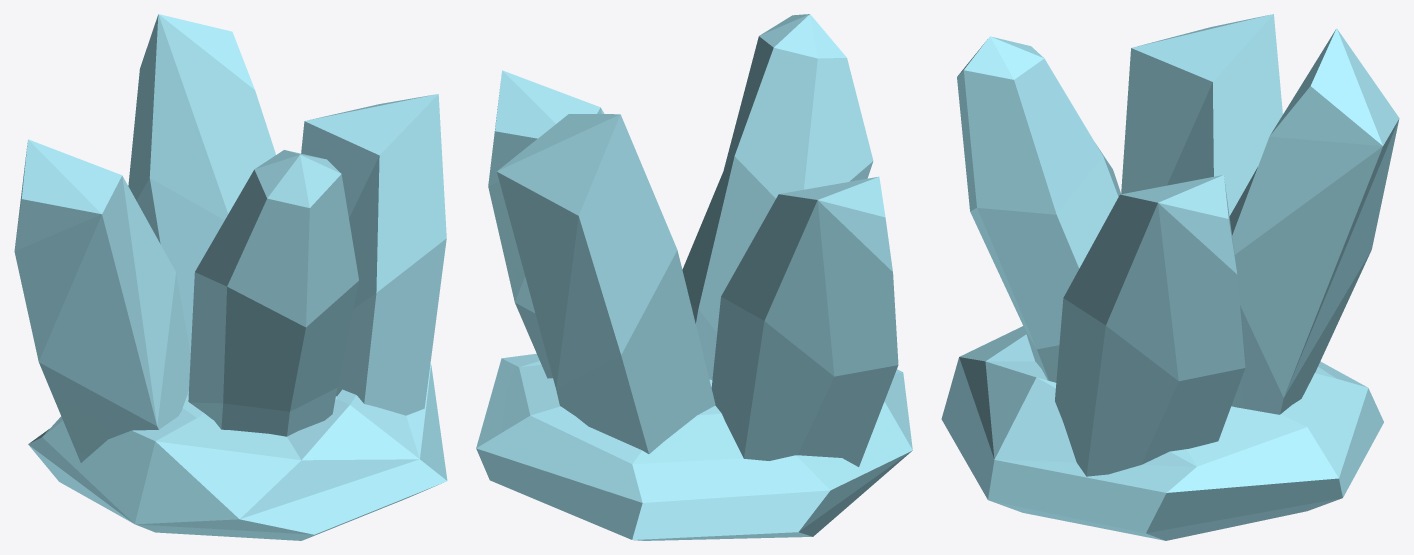
The model's file is freezePowerup.fbx.
3 renders of one model, left to right at view 1: azimuth 30°, elevation 25°; view 2: azimuth 150°, elevation 25°; view 3: azimuth 270°, elevation 25°, orthographic. The views are drawn at different scales.
Visible parts, largest first — view 1: pCube239; view 2: pCube239; view 3: pCube239.
Boxes of the visible parts, x1,y1,x2,y2 form: pCube239: (14,14,447,540); pCube239: (476,14,912,540); pCube239: (941,14,1399,540).
Bounding box in the file's own units: 73.59 × 74.56 × 68.18.
Materials: 1 (1 with a texture image).
